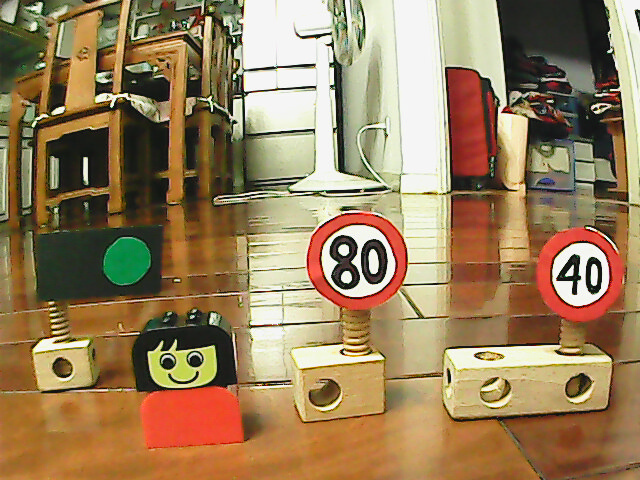Green Traffic Light: (95, 229, 159, 293)
Person: (126, 305, 247, 450)
Speed Limit 40: (533, 225, 628, 324)
Speed Limit 80: (304, 209, 411, 312)
